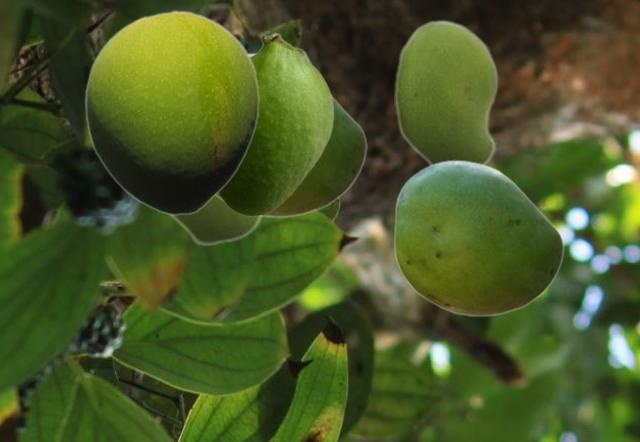green_mango: (84, 10, 259, 215), (393, 159, 563, 316), (216, 52, 366, 217), (217, 32, 333, 215), (394, 19, 498, 164), (166, 197, 263, 246)
